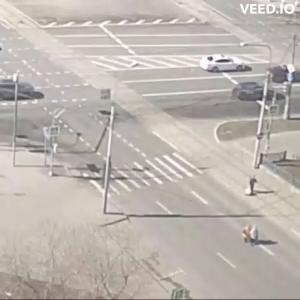car: (202, 55, 252, 75), (1, 75, 36, 103), (266, 59, 300, 85), (233, 82, 275, 101)
